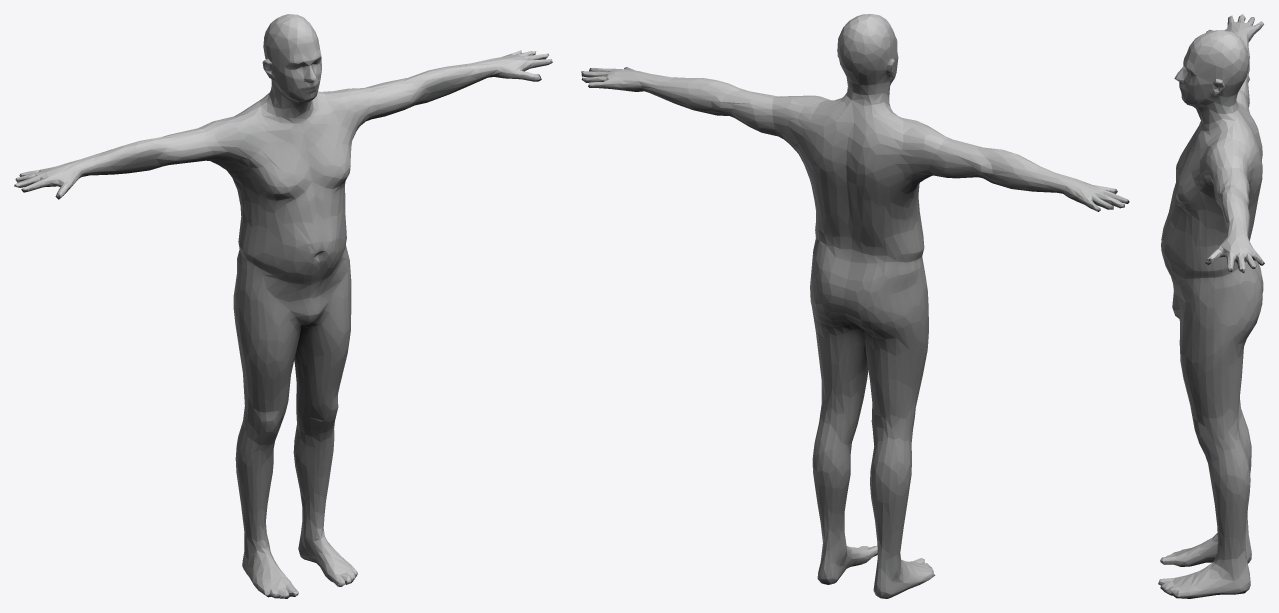
File: neutral-t.glb
3 views of the same model, side by side, from view 1: azimuth 30°, elevation 25°; view 2: azimuth 150°, elevation 25°; view 3: azimuth 270°, elevation 25° (orthographic). The views are drawn at different scales.
Visible parts, largest first — view 1: world; view 2: world; view 3: world.
Boxes of the visible parts, bbox=[...] form: world: bbox=[14, 14, 552, 598]; world: bbox=[581, 14, 1129, 598]; world: bbox=[1158, 14, 1264, 598].
Bounding box in the file's own units: 0.9972 × 0.9915 × 0.1756.
Materials: 1 (1 with a texture image).
